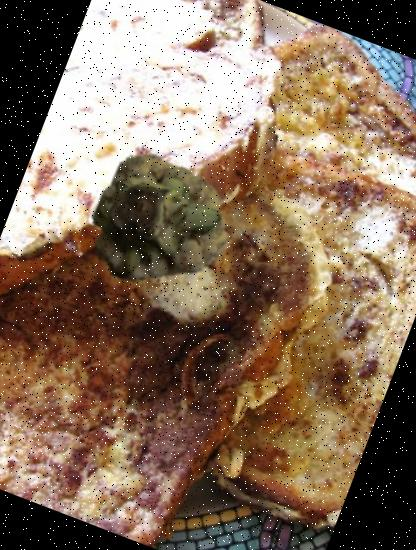Cauliflower: (70, 138, 250, 318)
